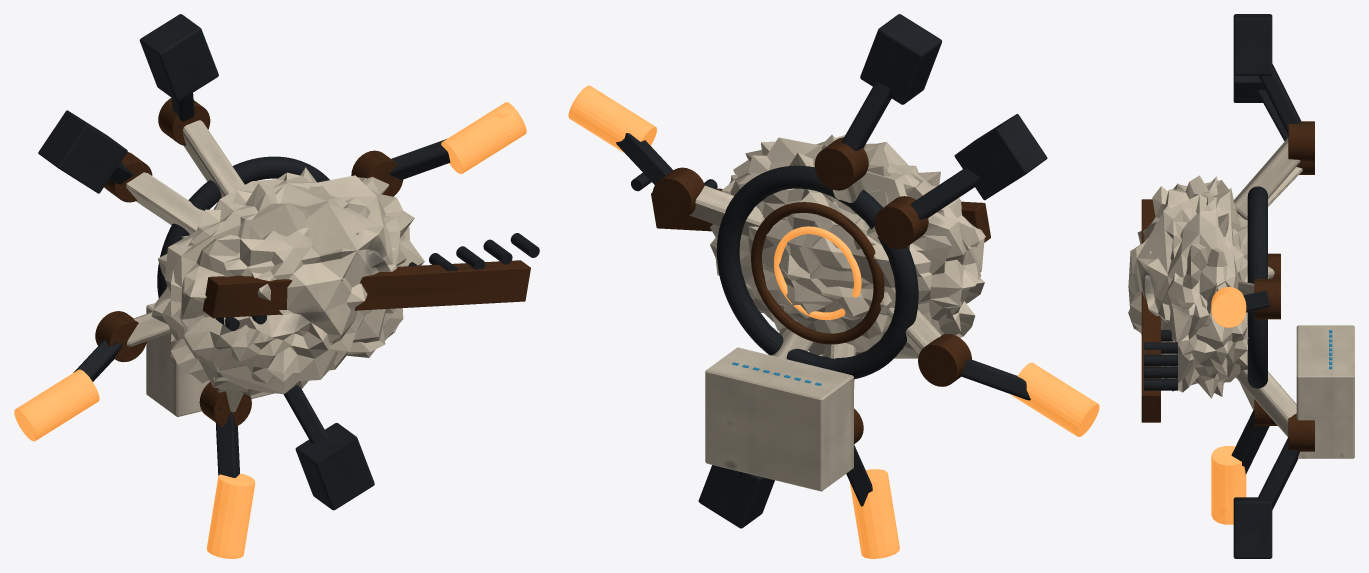
The model's file is place_station_mining.glb.
The picture shows the model from 3 angles, left to right: view 1: azimuth 30°, elevation 25°; view 2: azimuth 150°, elevation 25°; view 3: azimuth 270°, elevation 25°; orthographic projection. The views are drawn at different scales.
Visible parts, largest first — view 1: LOD0_Station_Material_Hull, LOD1_Station_Material_Hull, LOD0_Station_Material_Mechanical, LOD1_Station_Material_Warm, LOD2_Station_Material_Hull, LOD1_Station_Material_Mechanical, LOD0_Station_Material_Accent, LOD0_Station_Material_Warm, LOD2_Station_Material_Mechanical, LOD1_Station_Material_Accent, LOD2_Station_Material_Warm; view 2: LOD0_Station_Material_Hull, LOD0_Station_Material_Mechanical, LOD1_Station_Material_Hull, LOD2_Station_Material_Hull, LOD0_Station_Material_Warm, LOD1_Station_Material_Mechanical, LOD0_Station_Material_Accent, LOD2_Station_Material_Mechanical, LOD1_Station_Material_Warm, LOD1_Station_Material_Accent, LOD2_Station_Material_Warm; view 3: LOD0_Station_Material_Hull, LOD0_Station_Material_Mechanical, LOD2_Station_Material_Hull, LOD1_Station_Material_Hull, LOD0_Station_Material_Warm, LOD1_Station_Material_Accent, LOD1_Station_Material_Mechanical, LOD1_Station_Material_Warm, LOD2_Station_Material_Mechanical, LOD0_Station_Material_Accent, LOD2_Station_Material_Warm.
Boxes of the visible parts, bbox=[...] form: LOD0_Station_Material_Hull: bbox=[127, 120, 414, 413]; LOD1_Station_Material_Hull: bbox=[126, 173, 424, 416]; LOD0_Station_Material_Mechanical: bbox=[73, 14, 539, 510]; LOD1_Station_Material_Warm: bbox=[104, 151, 530, 427]; LOD2_Station_Material_Hull: bbox=[126, 172, 388, 416]; LOD1_Station_Material_Mechanical: bbox=[39, 110, 449, 477]; LOD0_Station_Material_Accent: bbox=[14, 102, 526, 441]; LOD0_Station_Material_Warm: bbox=[95, 98, 402, 362]; LOD2_Station_Material_Mechanical: bbox=[38, 110, 450, 477]; LOD1_Station_Material_Accent: bbox=[207, 102, 526, 558]; LOD2_Station_Material_Warm: bbox=[115, 162, 530, 426]; LOD0_Station_Material_Hull: bbox=[692, 134, 985, 479]; LOD0_Station_Material_Mechanical: bbox=[619, 14, 1030, 528]; LOD1_Station_Material_Hull: bbox=[695, 137, 984, 490]; LOD2_Station_Material_Hull: bbox=[689, 136, 969, 491]; LOD0_Station_Material_Warm: bbox=[652, 137, 989, 386]; LOD1_Station_Material_Mechanical: bbox=[617, 114, 1046, 505]; LOD0_Station_Material_Accent: bbox=[568, 85, 1099, 436]; LOD2_Station_Material_Mechanical: bbox=[616, 114, 1047, 506]; LOD1_Station_Material_Warm: bbox=[651, 167, 990, 443]; LOD1_Station_Material_Accent: bbox=[568, 85, 899, 558]; LOD2_Station_Material_Warm: bbox=[651, 183, 990, 340]; LOD0_Station_Material_Hull: bbox=[1128, 138, 1351, 436]; LOD0_Station_Material_Mechanical: bbox=[1144, 14, 1300, 558]; LOD2_Station_Material_Hull: bbox=[1137, 167, 1354, 458]; LOD1_Station_Material_Hull: bbox=[1128, 167, 1354, 456]; LOD0_Station_Material_Warm: bbox=[1143, 121, 1314, 451]; LOD1_Station_Material_Accent: bbox=[1211, 287, 1246, 524]; LOD1_Station_Material_Mechanical: bbox=[1232, 75, 1288, 471]; LOD1_Station_Material_Warm: bbox=[1141, 161, 1314, 425]; LOD2_Station_Material_Mechanical: bbox=[1231, 74, 1286, 474]; LOD0_Station_Material_Accent: bbox=[1211, 287, 1246, 327]; LOD2_Station_Material_Warm: bbox=[1141, 199, 1160, 422].
Size of what is drawn, in the model's own units: 110 by 111 by 46.77.
5 materials, 5 textured.
